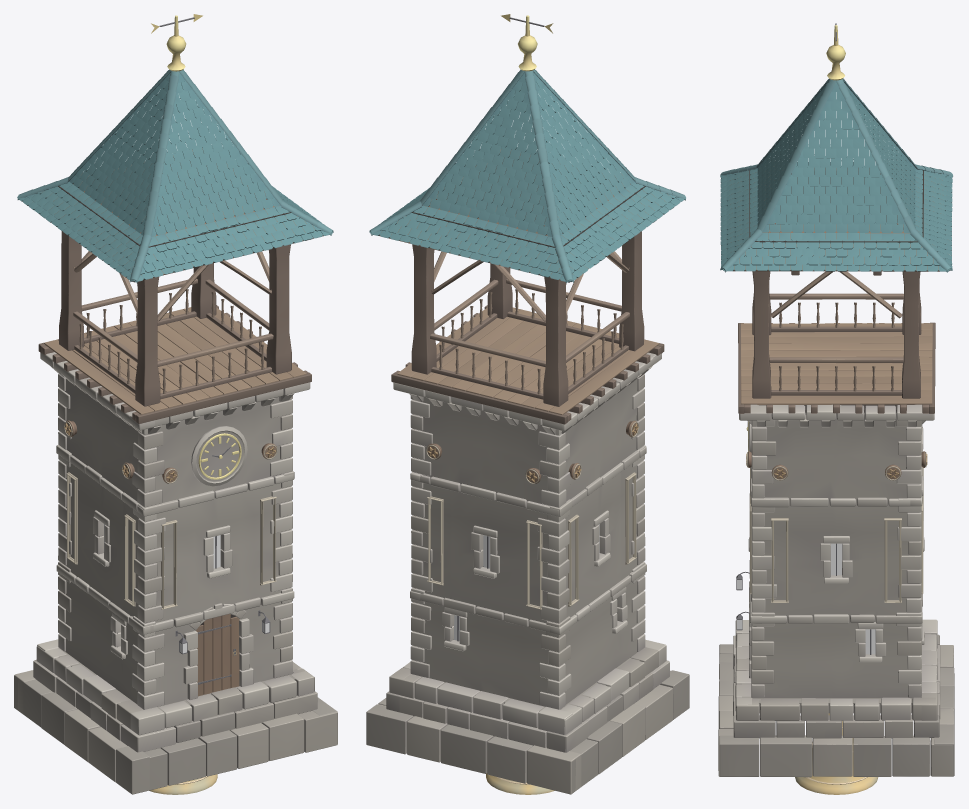
The model's file is bd_belltower.glb.
3 views of the same model, side by side, from view 1: azimuth 30°, elevation 25°; view 2: azimuth 150°, elevation 25°; view 3: azimuth 270°, elevation 25° (orthographic).
Visible parts, largest first — view 1: BD_belltower__body, BD_belltower__bell; view 2: BD_belltower__body, BD_belltower__bell; view 3: BD_belltower__body, BD_belltower__bell.
Part boxes in pixels (x1,y1,x2,y2): BD_belltower__body: [14, 14, 337, 794]; BD_belltower__bell: [149, 774, 217, 794]; BD_belltower__body: [366, 14, 689, 794]; BD_belltower__bell: [486, 773, 554, 794]; BD_belltower__body: [718, 23, 954, 777]; BD_belltower__bell: [795, 713, 878, 794].
Bounding box in the file's own units: 6.22 × 21.91 × 6.23.
